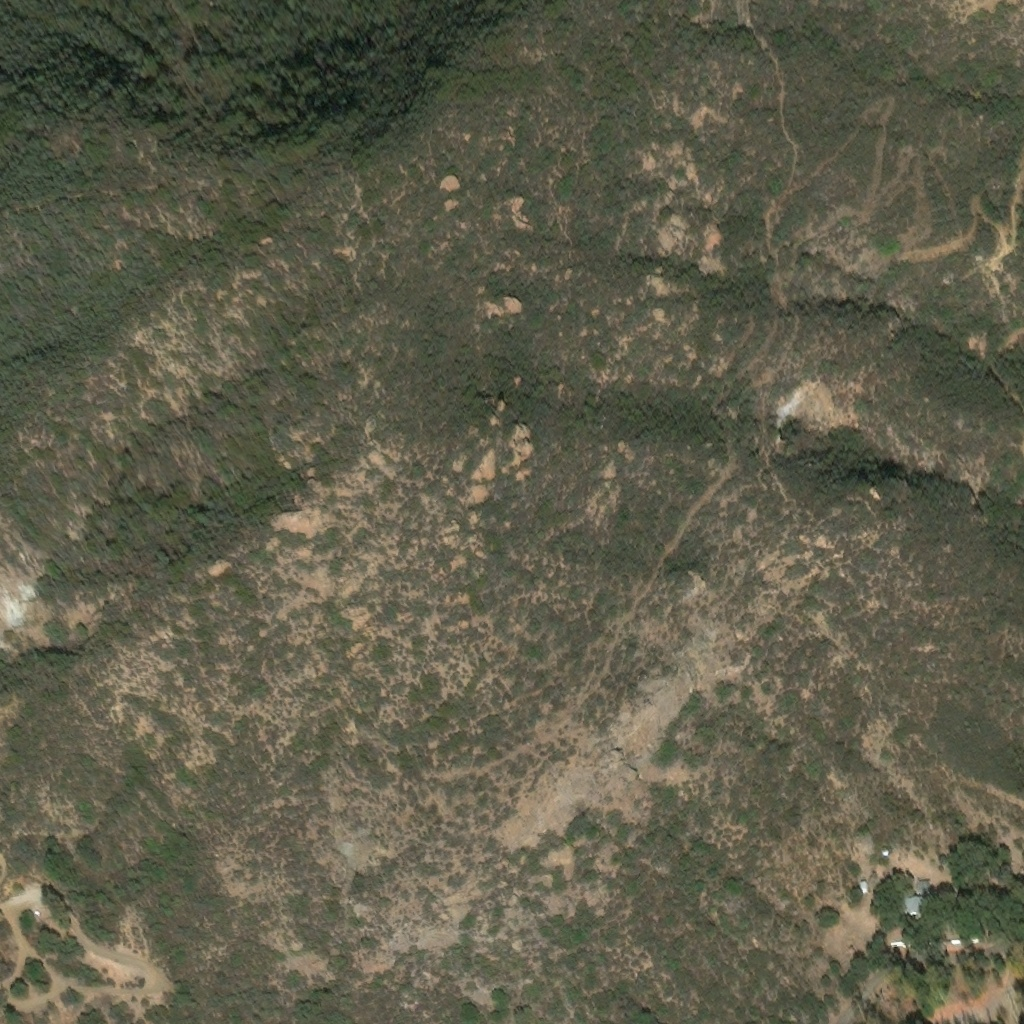0 no-damage: (904, 897, 925, 919), (916, 879, 930, 896), (860, 881, 868, 893)
4 un-classified: (880, 853, 894, 863)
